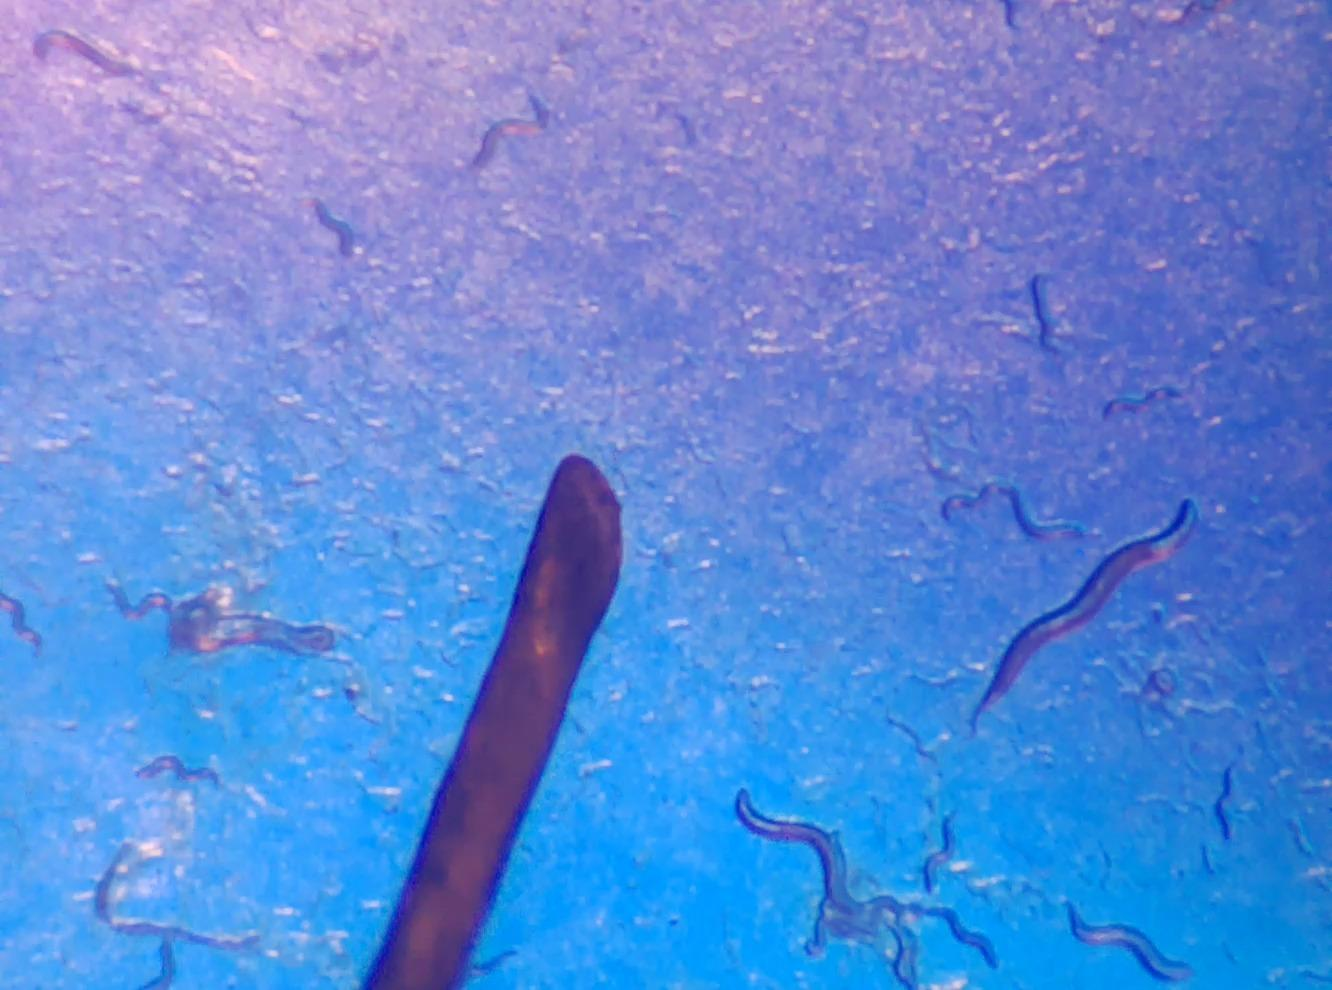pick: (362, 454, 622, 989)
worm: (970, 499, 1197, 735), (1067, 902, 1193, 981), (942, 481, 1086, 540), (470, 93, 548, 170), (33, 29, 135, 76), (135, 754, 219, 786), (307, 199, 354, 256), (1102, 385, 1182, 418), (0, 592, 41, 654)
